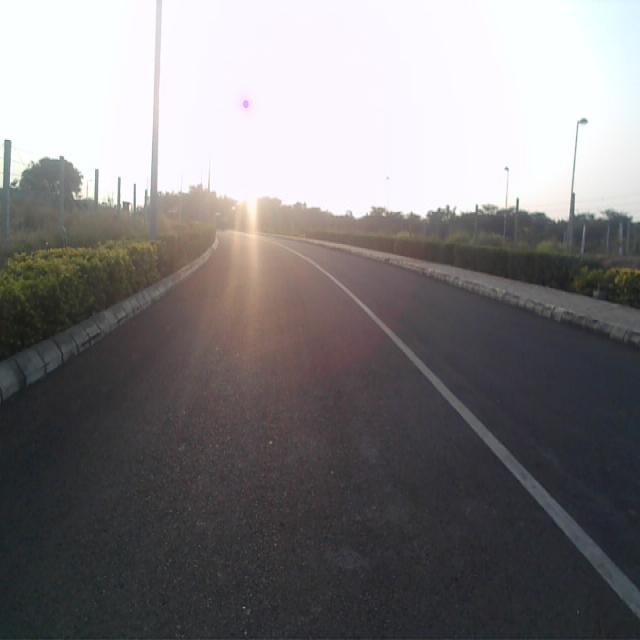lane: (0, 244, 640, 640)
